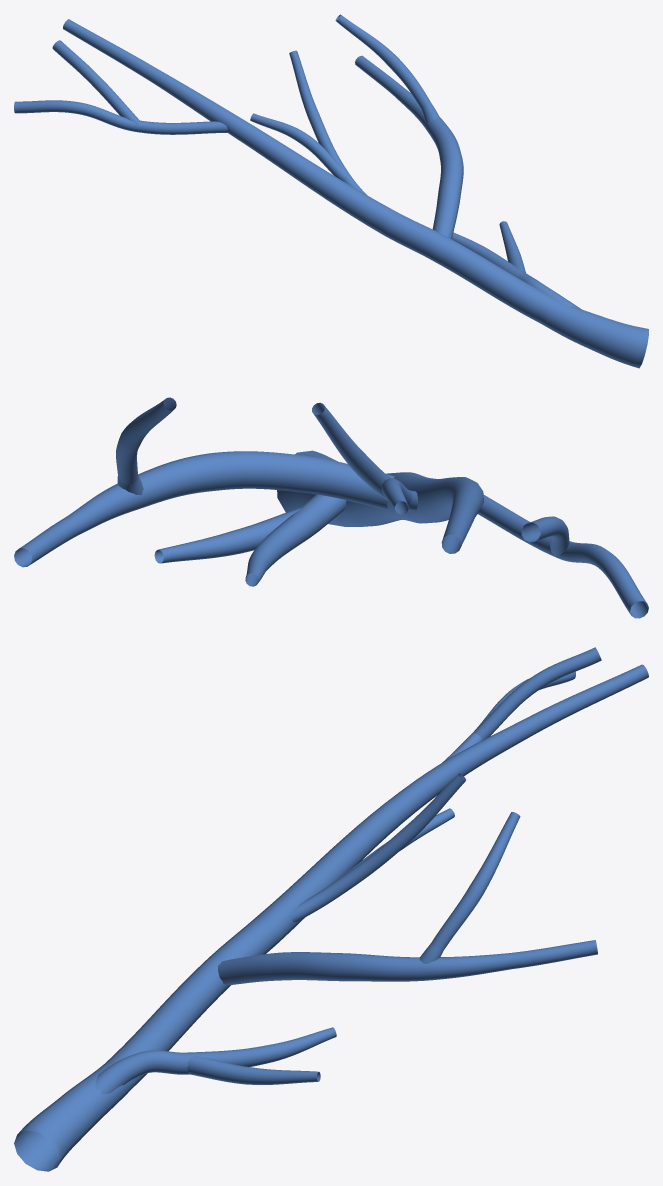
3 views of the same model, one above another, from view 1: azimuth 30°, elevation 25°; view 2: azimuth 150°, elevation 25°; view 3: azimuth 270°, elevation 25° (orthographic). The views are drawn at different scales.
Parts seen in each view (by area): view 1: 右肺底下静脉; view 2: 右肺底下静脉; view 3: 右肺底下静脉.
Part boxes in pixels (bbox=[...]): 右肺底下静脉: bbox=[14, 14, 648, 368]; 右肺底下静脉: bbox=[14, 397, 648, 618]; 右肺底下静脉: bbox=[14, 647, 648, 1171].
Bounding box in the file's own units: 0.1211 × 0.0676 × 0.1262.
